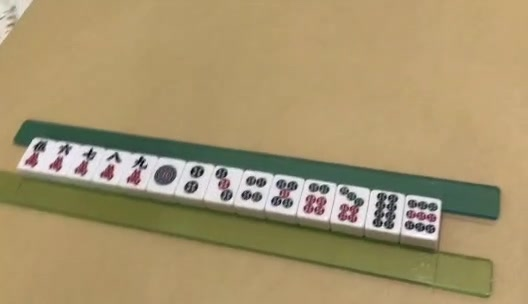1p: (154, 165, 177, 186)
2p: (184, 166, 204, 192)
3p: (215, 167, 235, 203)
4p: (242, 177, 268, 203)
5m: (25, 141, 47, 168)
5p: (269, 180, 299, 209)
6m: (47, 143, 71, 172)
6p: (302, 183, 329, 215)
7m: (76, 147, 97, 178)
7p: (336, 186, 363, 223)
8m: (98, 153, 123, 182)
8p: (373, 193, 396, 230)
9m: (125, 155, 148, 188)
9p: (403, 199, 437, 234)
